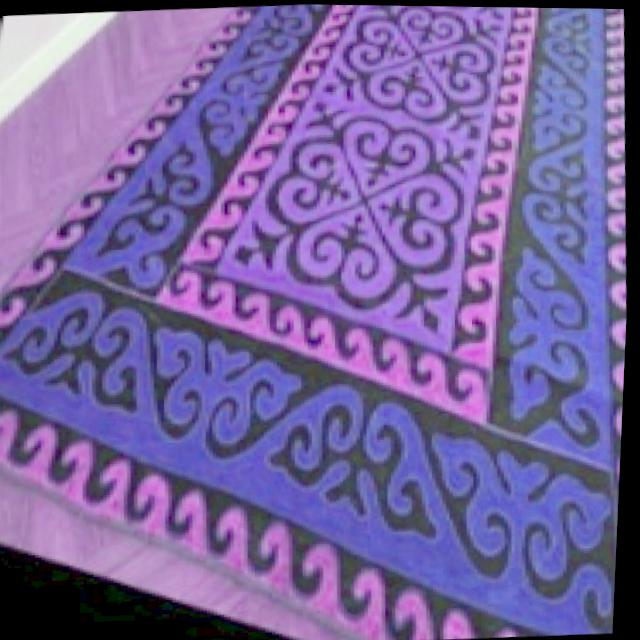Unity: (226, 98, 482, 341), (321, 5, 507, 140)
